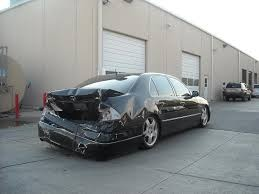Broken-glass: (98, 105, 123, 123), (41, 103, 64, 118)
Dent: (153, 101, 184, 115)
Smashed: (35, 89, 130, 155)
